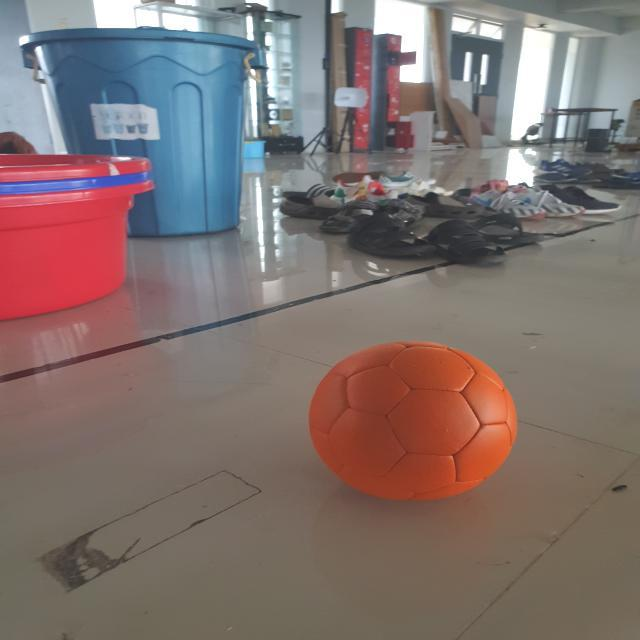bola: (300, 331, 526, 508)
